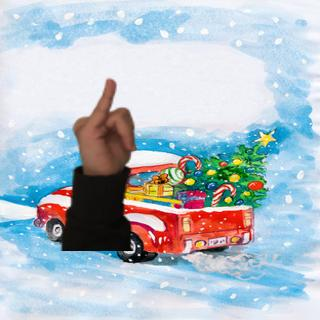HAVE: (67, 74, 145, 181)
